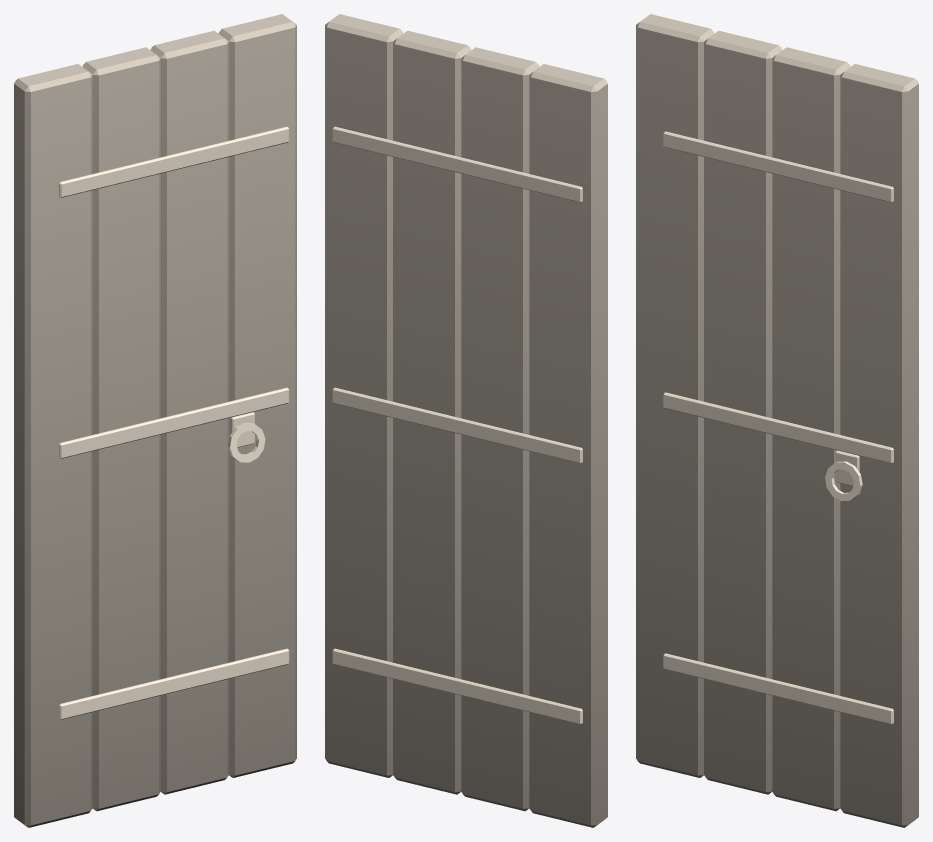
Rendered from SM_VKI_Leaf_Plank_Full.fbx.
3 views of the same model, side by side, from view 1: azimuth 30°, elevation 25°; view 2: azimuth 150°, elevation 25°; view 3: azimuth 330°, elevation 25° (orthographic).
Parts seen in each view (by area): view 1: SM_VKI_Leaf_Plank_Full.001; view 2: SM_VKI_Leaf_Plank_Full.001; view 3: SM_VKI_Leaf_Plank_Full.001.
Part boxes in pixels (<box>): SM_VKI_Leaf_Plank_Full.001: <box>14,14,296,827</box>; SM_VKI_Leaf_Plank_Full.001: <box>325,14,607,827</box>; SM_VKI_Leaf_Plank_Full.001: <box>636,14,918,827</box>.
Bounding box in the file's own units: 0.83 × 2.16 × 0.1309.
